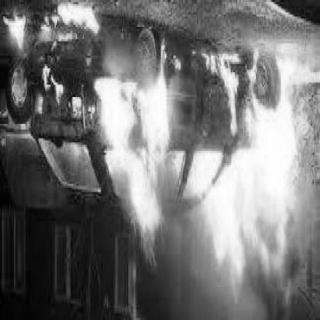other: (10, 70, 28, 108)
